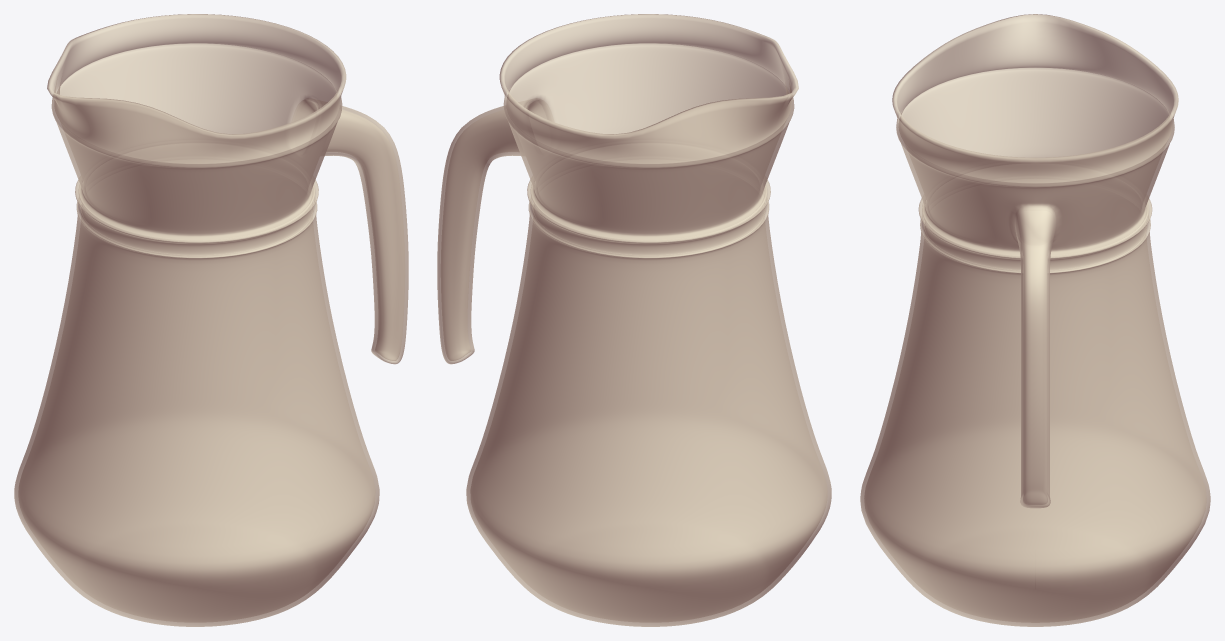
File: sürah.fbx
The picture shows the model from 3 angles, left to right: view 1: azimuth 30°, elevation 25°; view 2: azimuth 150°, elevation 25°; view 3: azimuth 270°, elevation 25°; orthographic projection. The views are drawn at different scales.
Parts seen in each view (by area): view 1: Circle.001; view 2: Circle.001; view 3: Circle.001.
Boxes of the visible parts, x1,y1,x2,y2 form: Circle.001: (14,14,408,626); Circle.001: (437,14,831,626); Circle.001: (860,14,1210,626).
Bounding box in the file's own units: 166 × 227 × 144.
